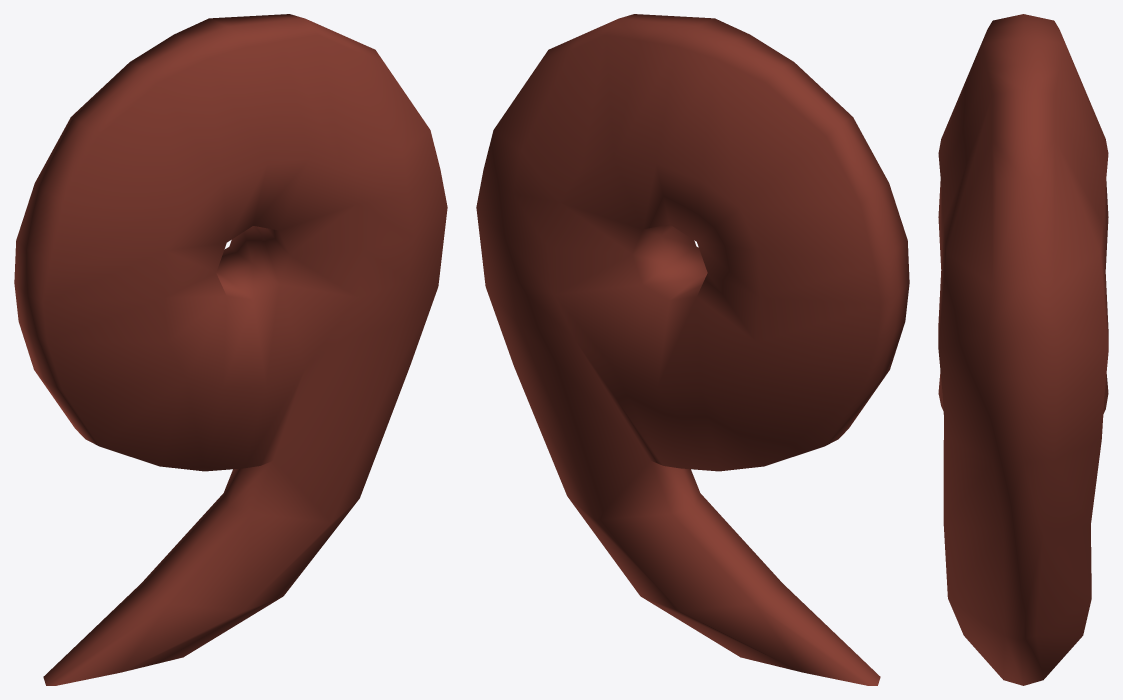
Rendered from magadama.fbx.
3 renders of one model, left to right at view 1: azimuth 30°, elevation 25°; view 2: azimuth 150°, elevation 25°; view 3: azimuth 270°, elevation 25°, orthographic. The views are drawn at different scales.
Parts seen in each view (by area): view 1: pCube1; view 2: pCube1; view 3: pCube1.
Part boxes in pixels (box(x1,y1,x2,y2)): pCube1: box(14, 14, 447, 685); pCube1: box(476, 14, 909, 685); pCube1: box(938, 14, 1108, 685).
Bounding box in the file's own units: 5.05 × 7.26 × 1.69.
